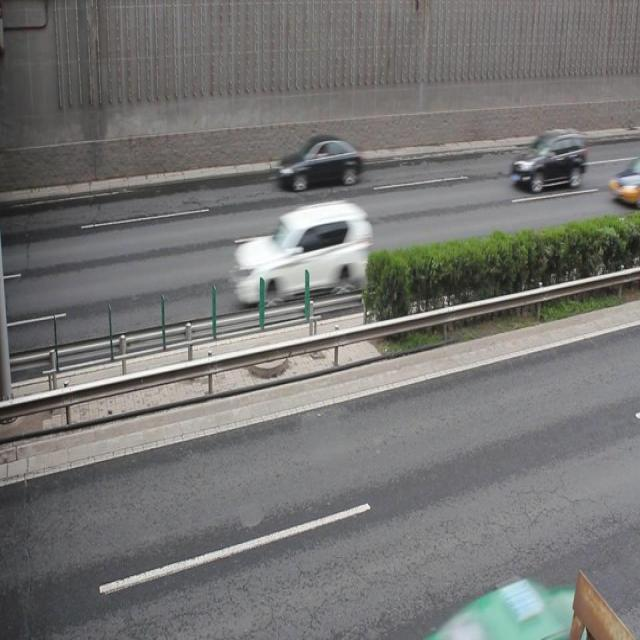car: (231, 202, 372, 304), (443, 578, 600, 640), (277, 134, 363, 192), (508, 127, 584, 192), (605, 161, 640, 209)
